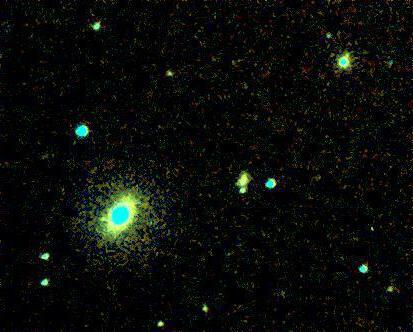star: (89, 203, 119, 233)
